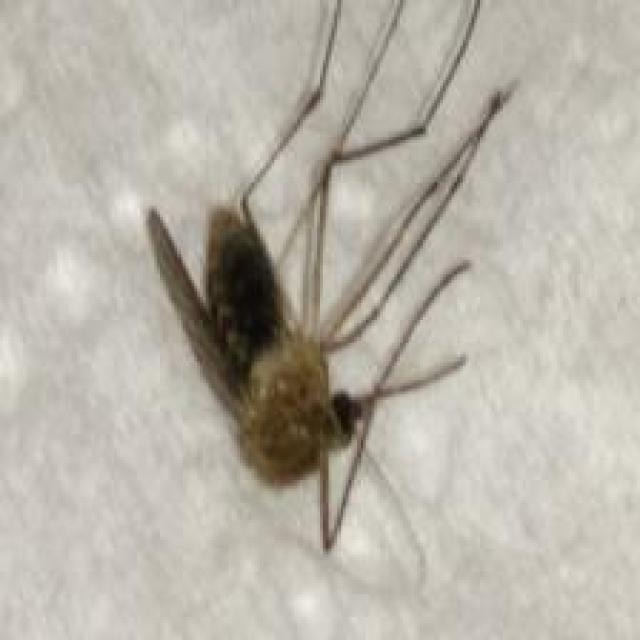Culex: (142, 0, 518, 557)
